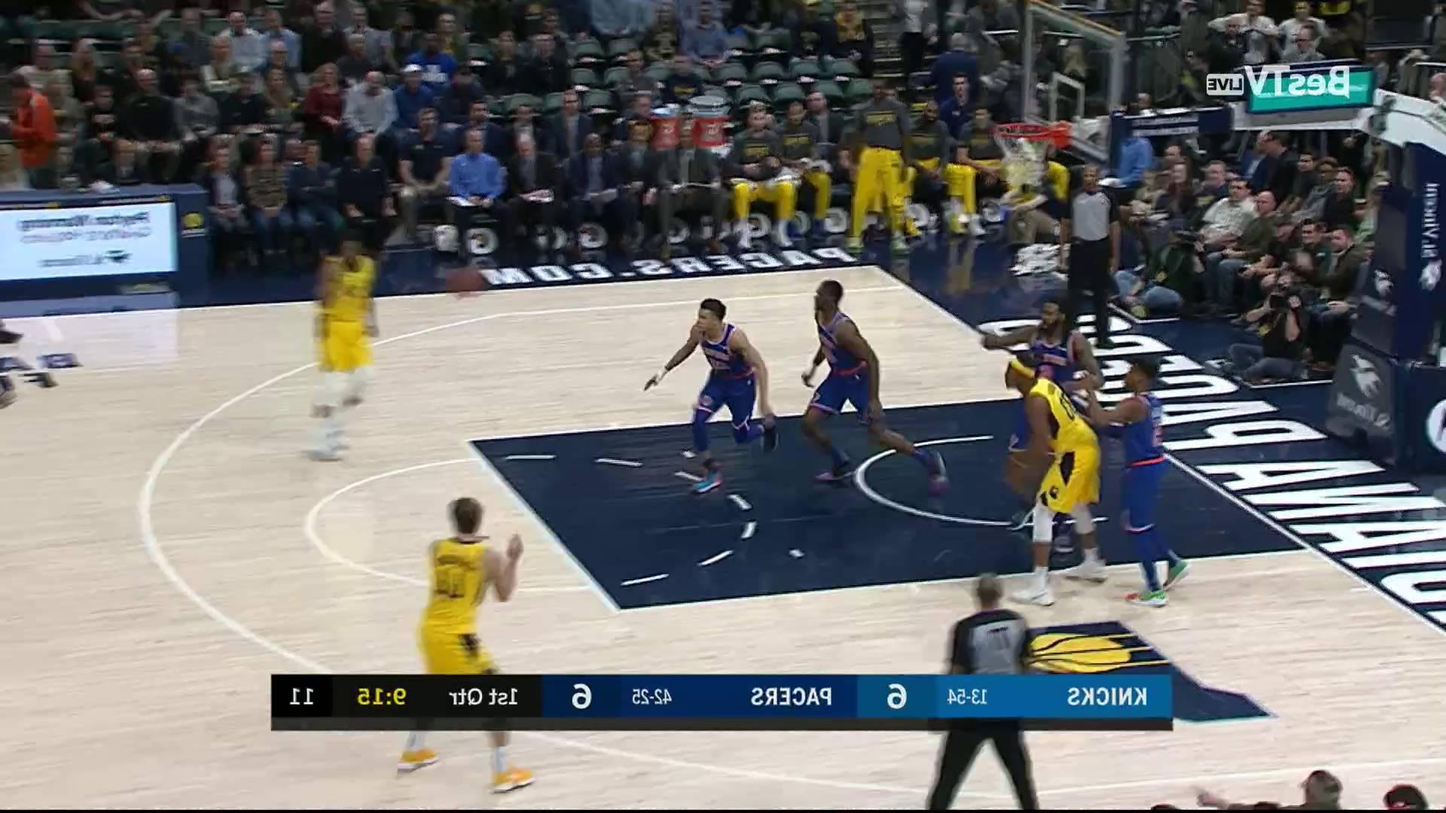basketball: (433, 266, 490, 300)
